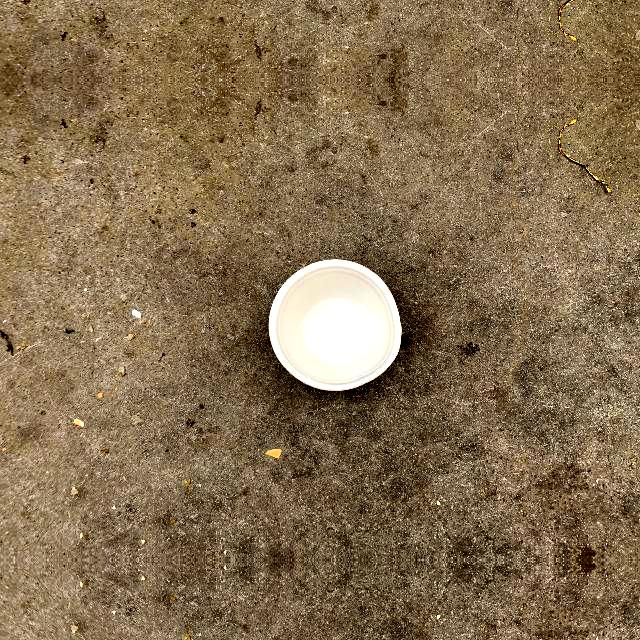Styrofoam: (266, 258, 404, 392), (269, 259, 402, 391)
